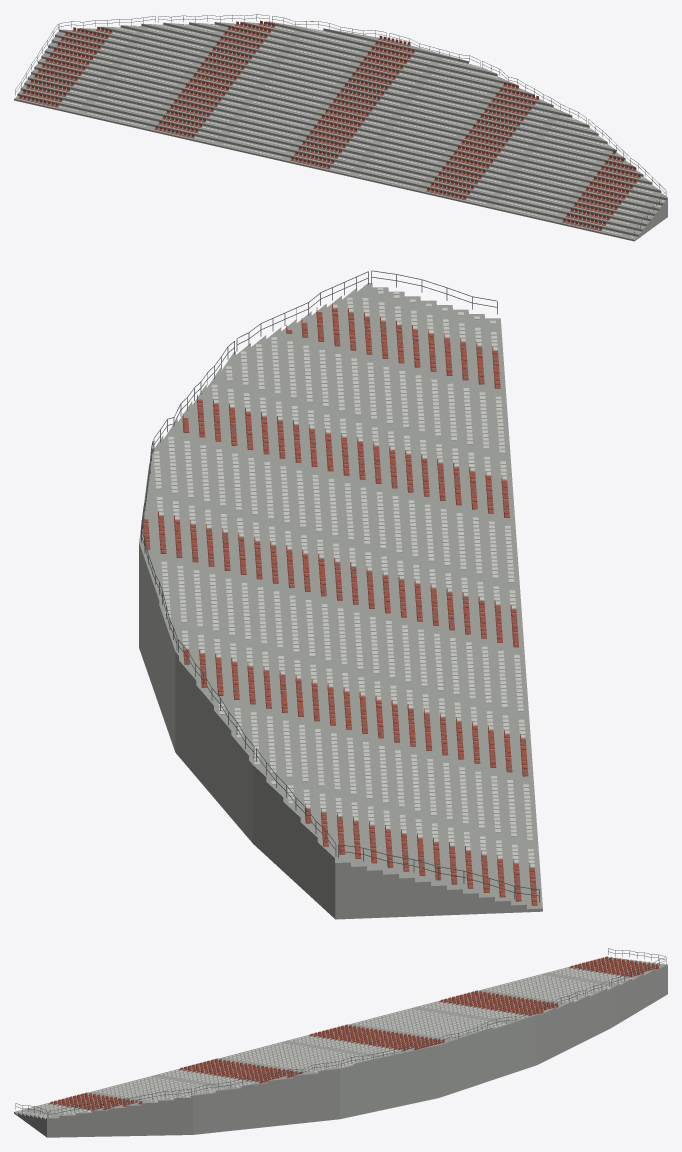
The model's file is osm_way_223859802.glb.
3 renders of one model, top to bottom at view 1: azimuth 30°, elevation 25°; view 2: azimuth 150°, elevation 25°; view 3: azimuth 270°, elevation 25°, orthographic. The views are drawn at different scales.
Visible parts, largest first — view 1: Stadium • tiered seating, EXTERIOR::osm_way_223859802::structure and seating detail; view 2: Stadium • tiered seating, EXTERIOR::osm_way_223859802::structure and seating detail; view 3: Stadium • tiered seating, EXTERIOR::osm_way_223859802::structure and seating detail.
Part boxes in pixels (x1,y1,x2,y2): Stadium • tiered seating: (14,21,667,241); EXTERIOR::osm_way_223859802::structure and seating detail: (15,14,666,236); Stadium • tiered seating: (139,283,542,919); EXTERIOR::osm_way_223859802::structure and seating detail: (141,270,539,904); Stadium • tiered seating: (14,957,667,1137); EXTERIOR::osm_way_223859802::structure and seating detail: (15,948,666,1117).
Bounding box in the file's own units: 62.3 × 9.67 × 95.93.
